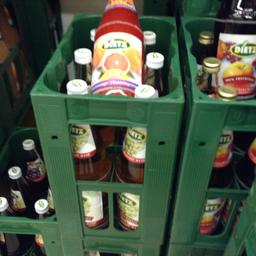juice: (60, 74, 110, 224), (111, 84, 158, 230), (90, 0, 140, 96)
